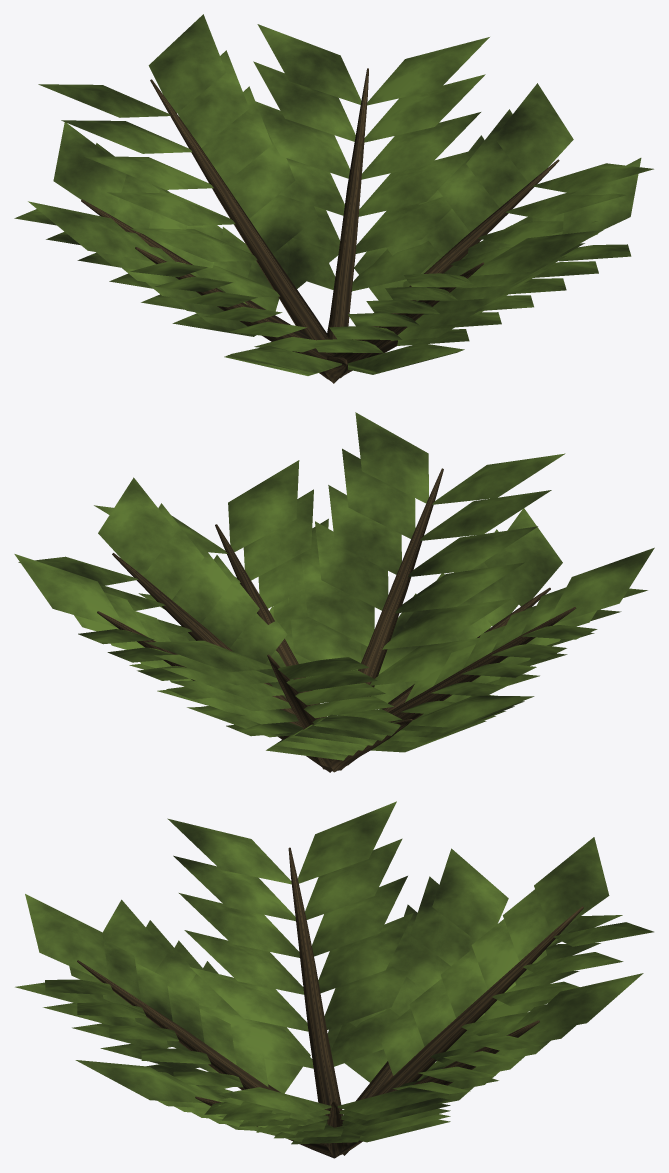
The model's file is shrub_briar.glb.
The picture shows the model from 3 angles, top to bottom: view 1: azimuth 30°, elevation 25°; view 2: azimuth 150°, elevation 25°; view 3: azimuth 270°, elevation 25°; orthographic projection.
Visible parts, largest first — view 1: shrub_briarMesh; view 2: shrub_briarMesh; view 3: shrub_briarMesh.
Boxes of the visible parts, <box> form: shrub_briarMesh: <box>14,14,653,383</box>; shrub_briarMesh: <box>14,412,654,772</box>; shrub_briarMesh: <box>15,801,653,1158</box>.
Size of the model in its own units: 1.6 by 0.6686 by 1.62.
Materials: 2 (2 with a texture image).
